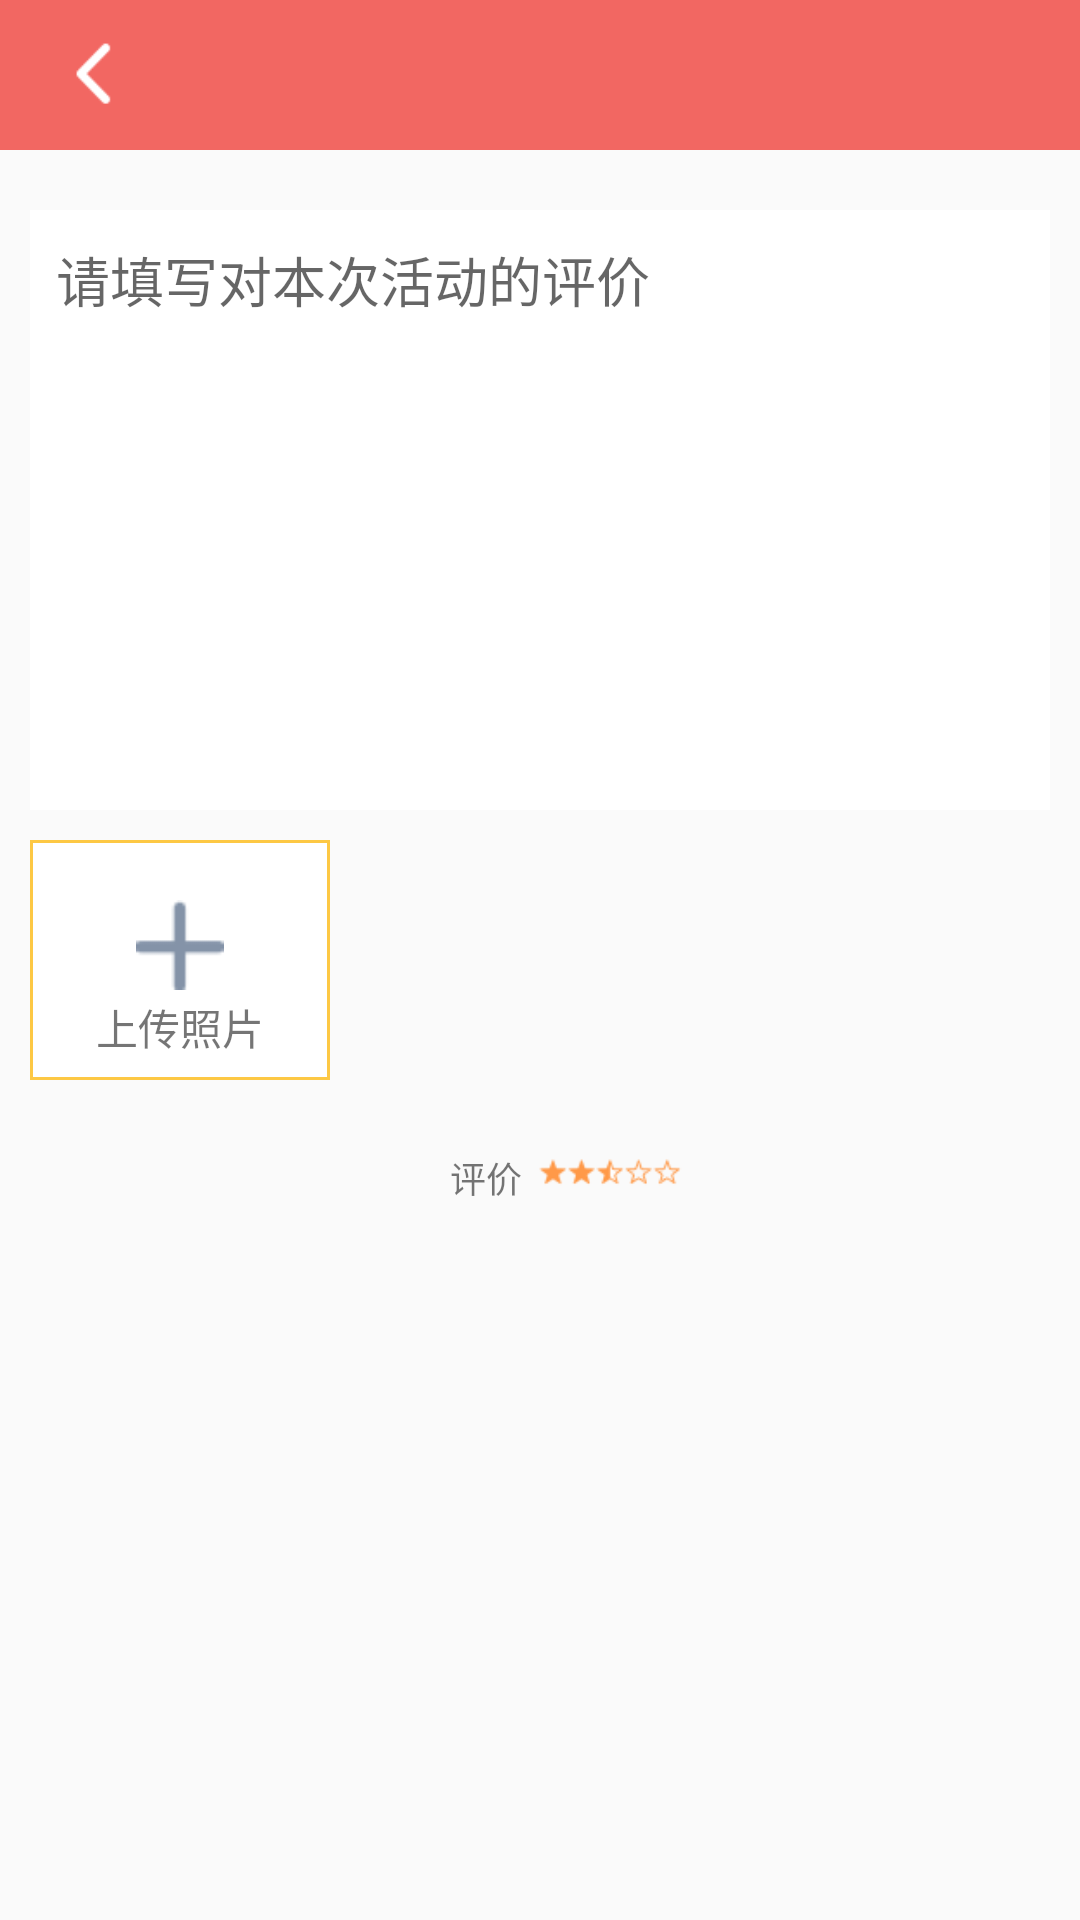

Named icons in this screenshot (1080px x 1920px) and their centers, (x,y):
add: (180,946)
xing: (610,1171)
